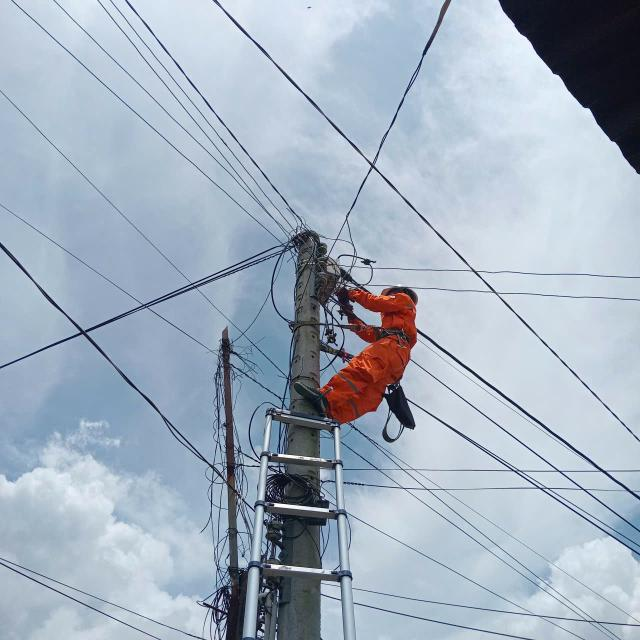gloves: (335, 274, 363, 302), (336, 303, 357, 328)
harness: (361, 321, 420, 348)
helmet: (372, 268, 436, 304)
shoes: (293, 363, 326, 410), (308, 396, 332, 415)
